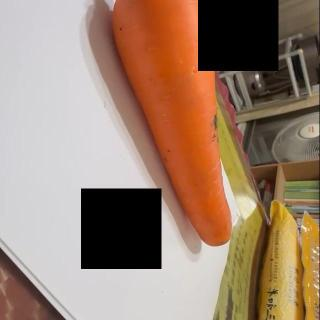carrot: (110, 0, 234, 248)
